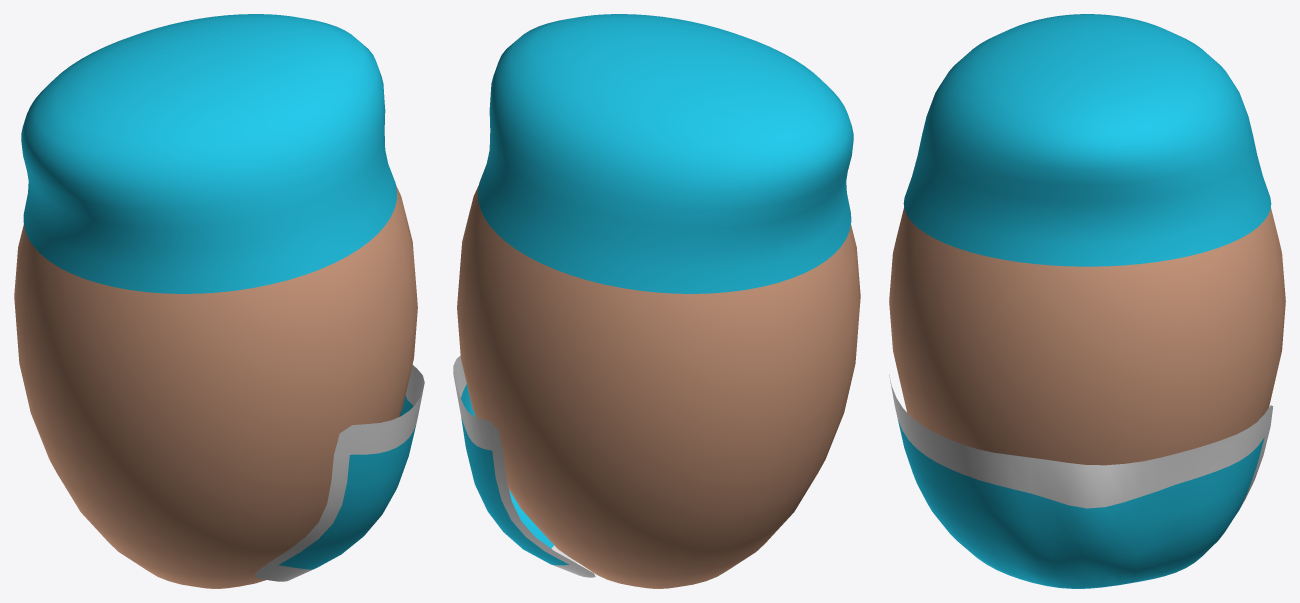
The model's file is facesurgeon.fbx.
3 renders of one model, left to right at view 1: azimuth 30°, elevation 25°; view 2: azimuth 150°, elevation 25°; view 3: azimuth 270°, elevation 25°, orthographic.
Visible parts, largest first — view 1: FaceSurgeon; view 2: FaceSurgeon; view 3: FaceSurgeon.
Boxes of the visible parts, <box> form: FaceSurgeon: <box>14,14,424,588</box>; FaceSurgeon: <box>453,14,860,588</box>; FaceSurgeon: <box>889,14,1285,588</box>.
Size of the model in its own units: 207 by 289 by 200.
